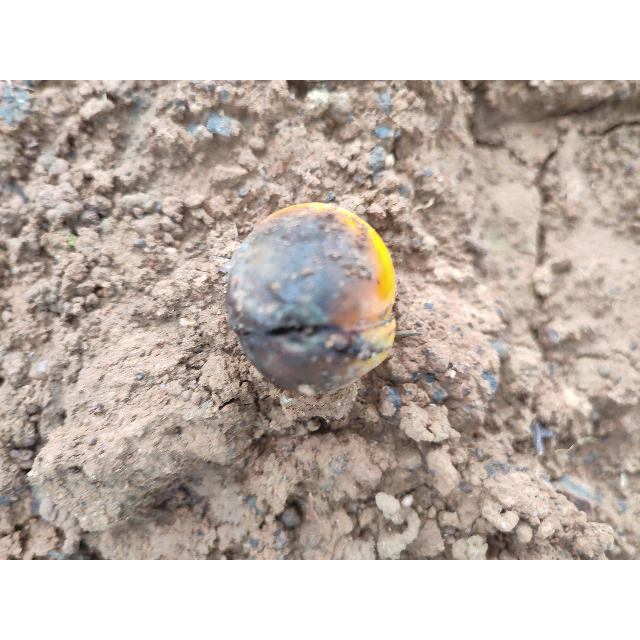damaged: (223, 202, 398, 398)
